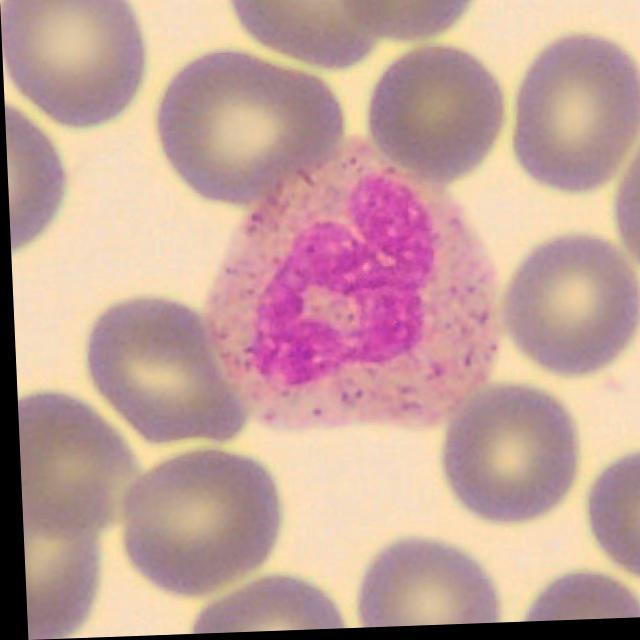Neutrofilo segmentado: (200, 136, 500, 434)
